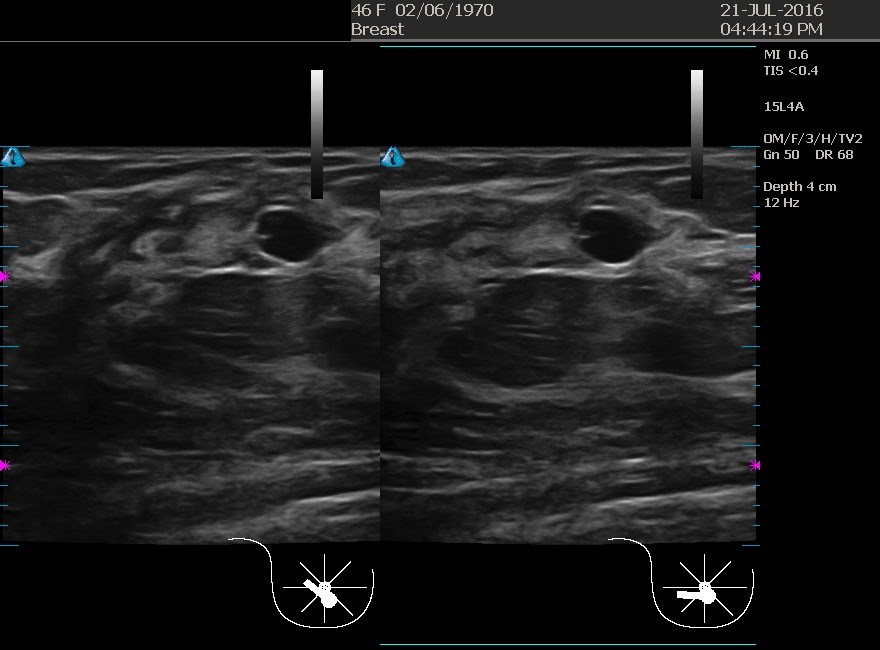BIRADS_2: (176, 204, 377, 404), (483, 197, 683, 398)
